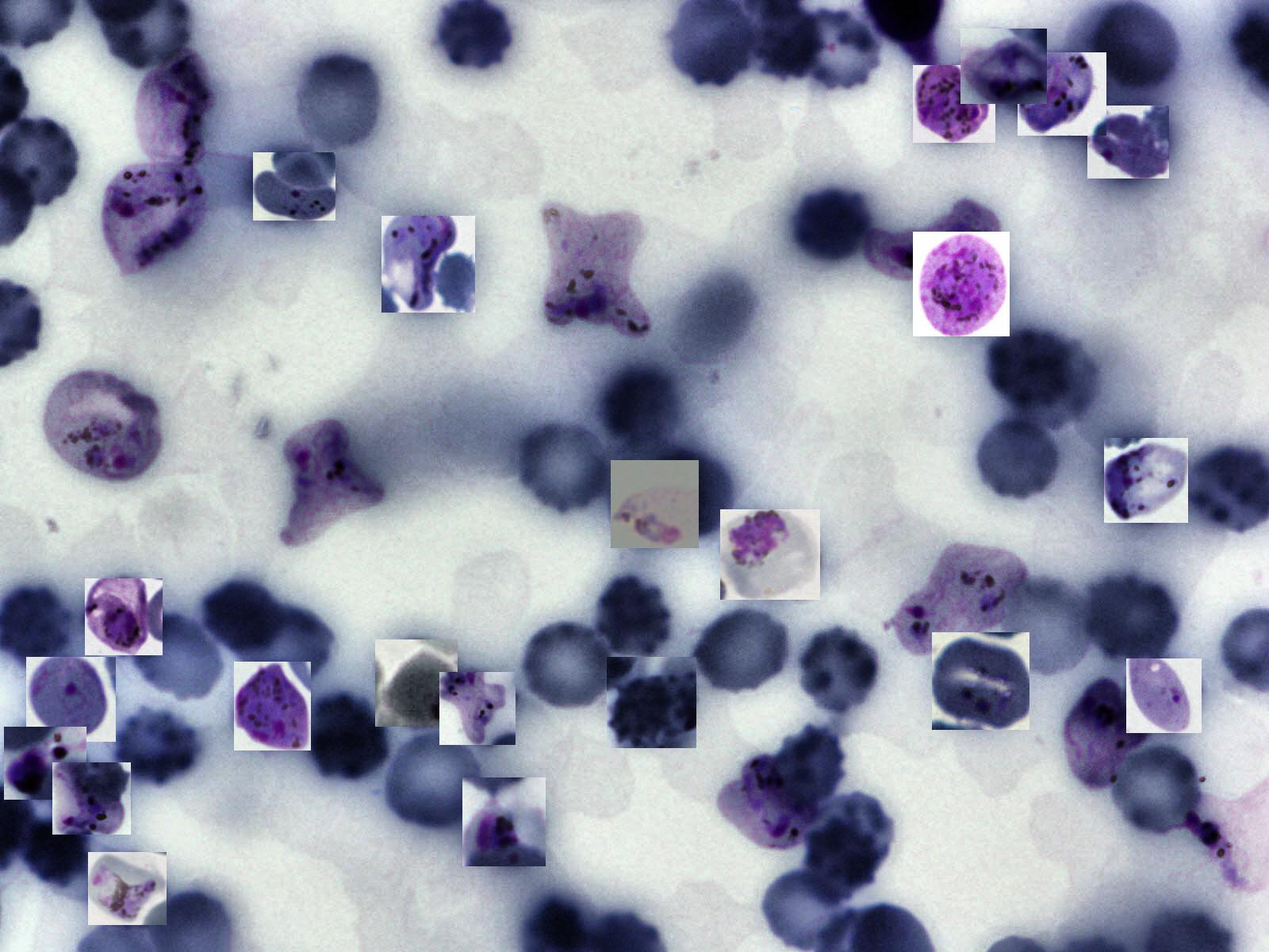Infected: (891, 545, 1026, 654), (543, 202, 651, 336), (40, 371, 161, 483), (102, 159, 210, 274), (282, 421, 378, 547), (868, 202, 999, 283), (913, 232, 1010, 336), (932, 632, 1029, 730), (718, 754, 818, 849), (136, 49, 214, 168), (381, 216, 475, 313), (720, 509, 820, 600), (1062, 681, 1145, 789), (607, 657, 696, 748), (611, 460, 699, 548), (27, 657, 116, 742), (462, 777, 546, 866), (1018, 52, 1106, 136), (375, 639, 458, 727), (1104, 438, 1188, 523), (234, 662, 311, 750), (960, 29, 1047, 104), (913, 65, 995, 143), (85, 578, 163, 655), (5, 727, 86, 800), (1087, 106, 1169, 178), (88, 852, 167, 925), (1126, 658, 1202, 733), (52, 763, 131, 835), (253, 152, 335, 221), (439, 672, 516, 745)
Uninfected: (381, 729, 485, 834), (1106, 737, 1206, 838), (289, 53, 385, 155), (517, 617, 619, 713), (1083, 570, 1183, 667), (128, 608, 225, 705), (510, 420, 610, 514), (692, 601, 790, 695), (971, 412, 1066, 505), (302, 688, 392, 786), (770, 12, 884, 88), (806, 793, 894, 889), (1006, 577, 1093, 674), (236, 604, 334, 689), (794, 625, 884, 717), (109, 704, 204, 789), (646, 448, 731, 538), (592, 573, 677, 662), (987, 329, 1069, 405), (775, 723, 846, 809), (200, 581, 282, 648), (798, 190, 870, 265), (19, 818, 91, 889)
